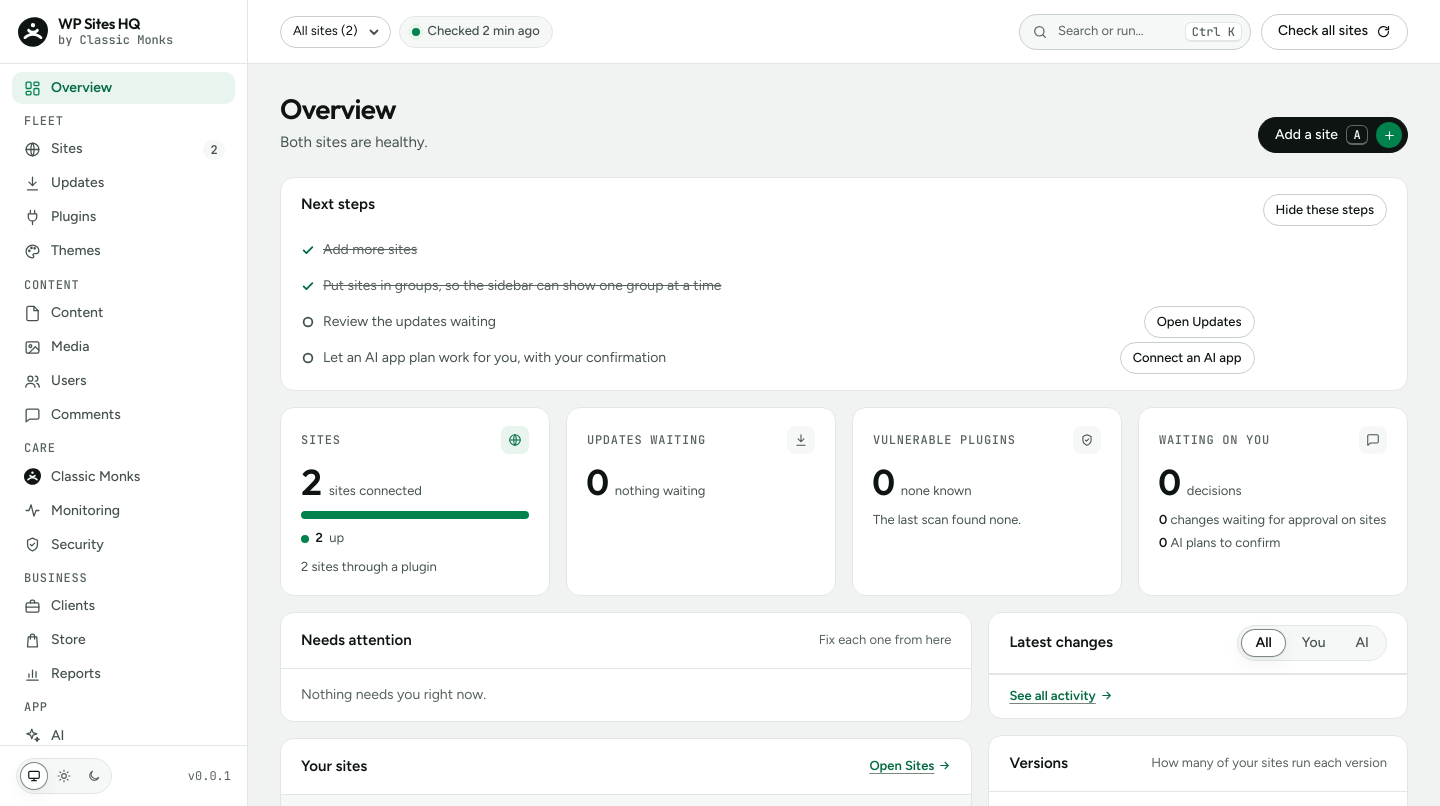
Test: the scope switcher narrows to a group
Expected: the text "Both sites are healthy." is shown, [280,132,428,153]
What coordinates should you click on to do the following:
click the dropdown named "Sites to show"
I would click on:
 (335, 32)
Its box is [280,16,390,48].
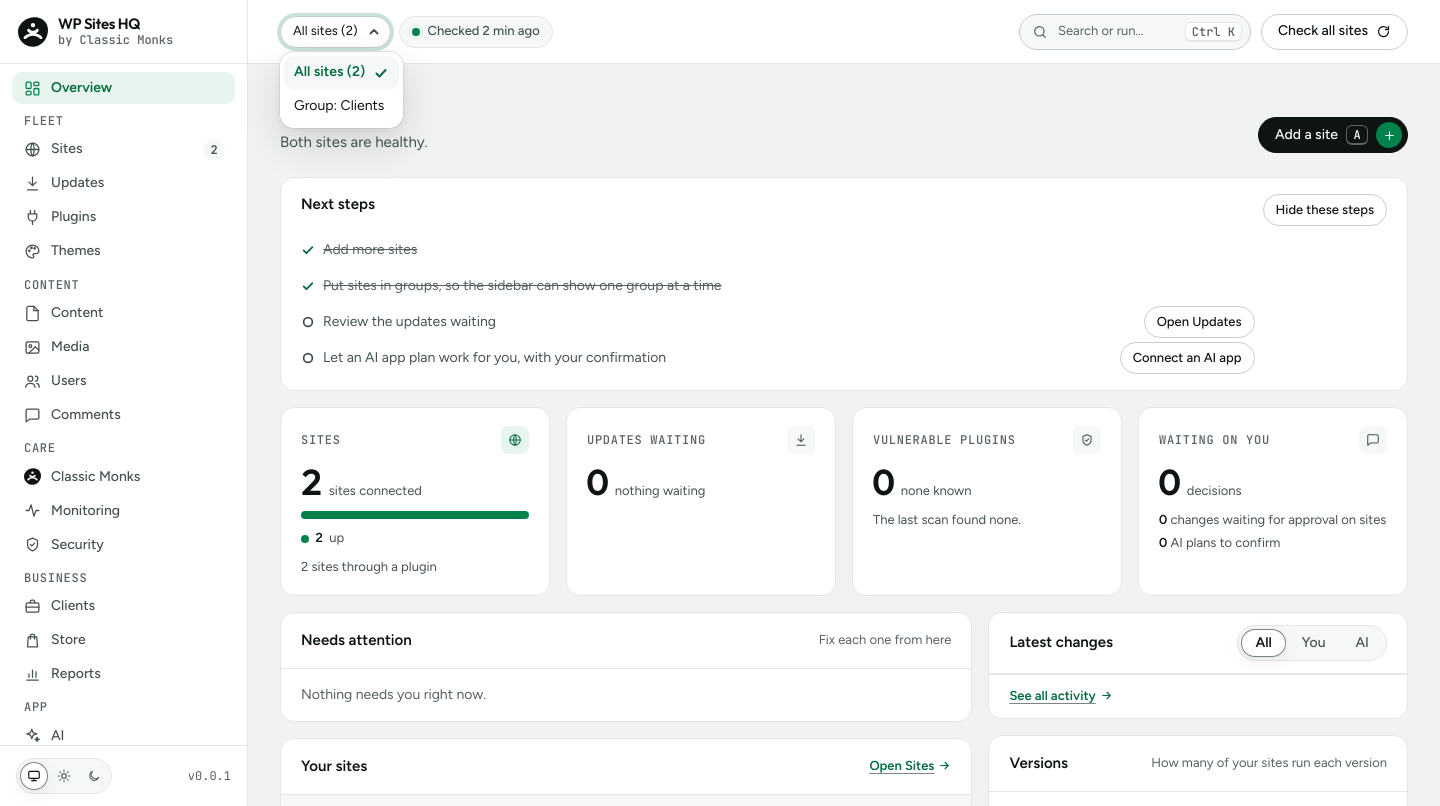
What coordinates should you click on to do the following:
click the option "Group: Clients"
I would click on:
 (339, 106)
Its box is [294,97,384,114].
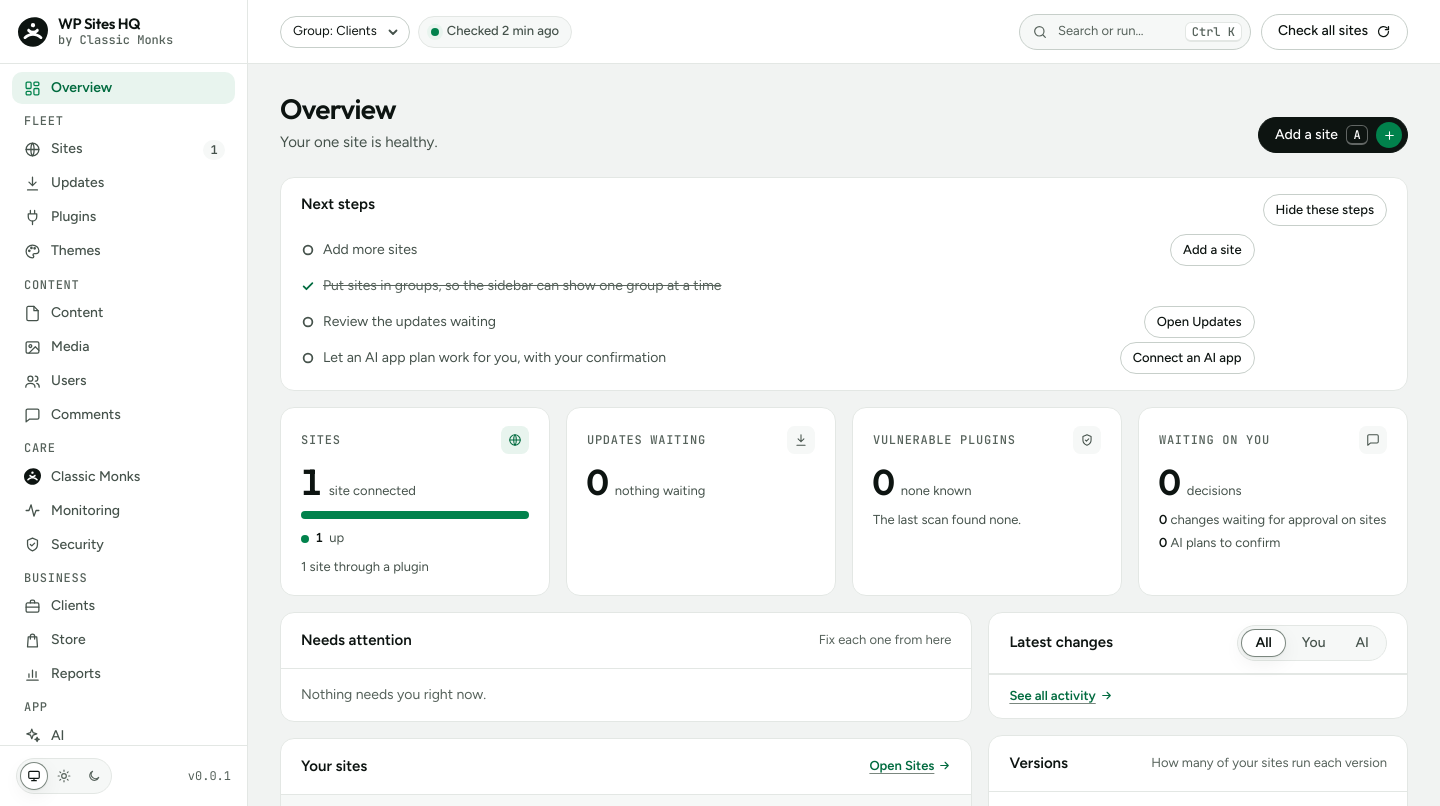
Now the text "Your one site is healthy." is shown, box [280,132,438,153]
